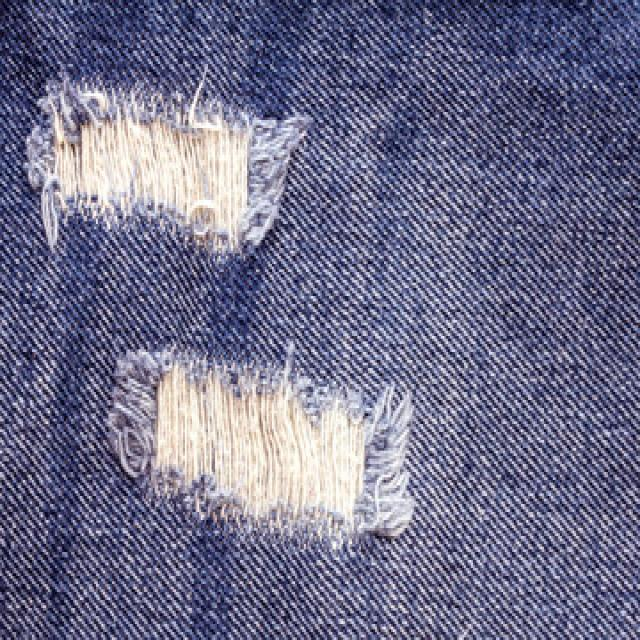Hole: (106, 351, 414, 544), (26, 77, 308, 256)
